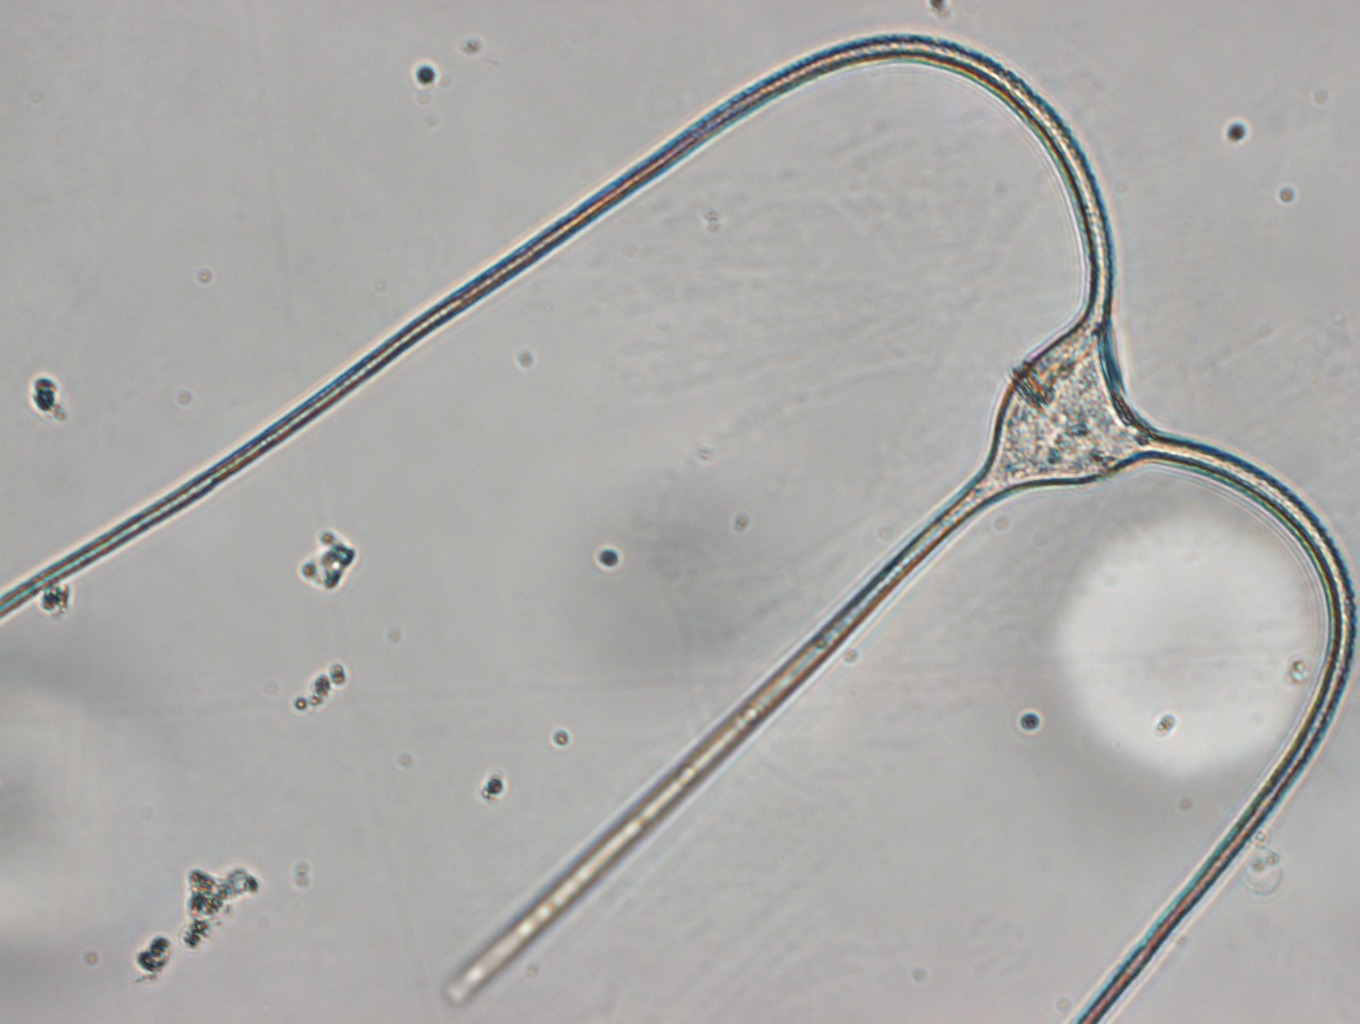ceratium trichoceros: (1, 33, 1360, 1024)
